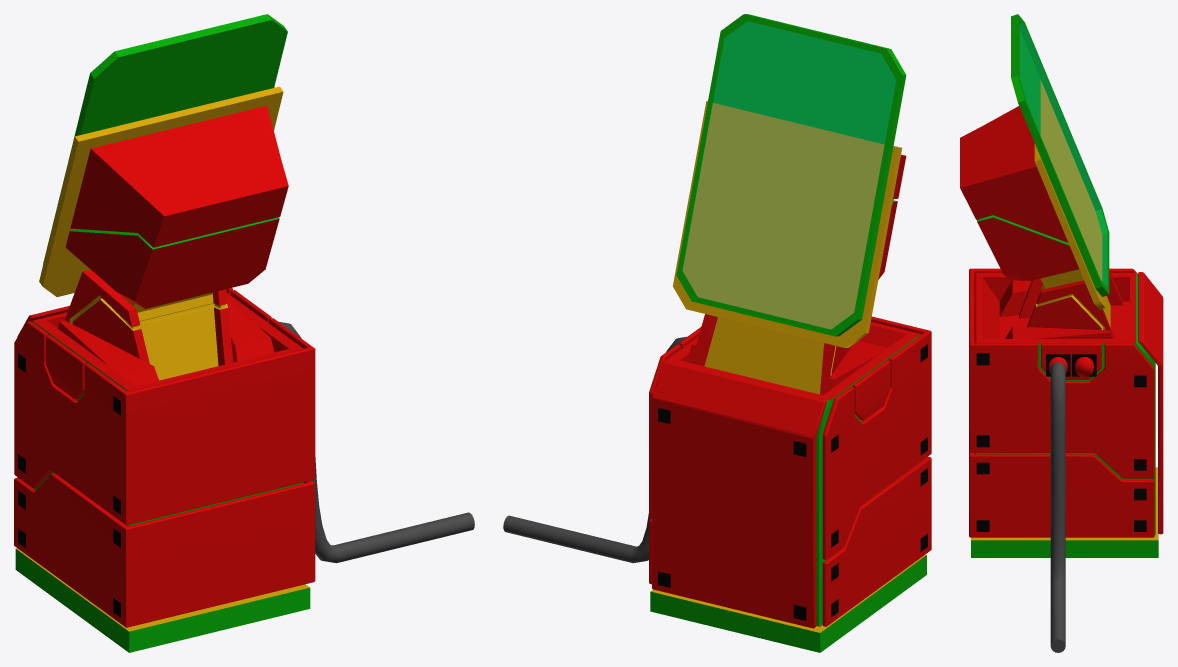
The model's file is SM0128_Lobby_ControlPanels_02.fbx.
3 renders of one model, left to right at view 1: azimuth 30°, elevation 25°; view 2: azimuth 150°, elevation 25°; view 3: azimuth 270°, elevation 25°, orthographic. The views are drawn at different scales.
Parts seen in each view (by area): view 1: SM0128_Lobby_ControlPanels_02, Cylinder.047; view 2: SM0128_Lobby_ControlPanels_02, Cylinder.047; view 3: SM0128_Lobby_ControlPanels_02, Cylinder.047.
Part boxes in pixels (x1,y1,x2,y2): SM0128_Lobby_ControlPanels_02: [14, 14, 315, 652]; Cylinder.047: [278, 321, 474, 563]; SM0128_Lobby_ControlPanels_02: [649, 14, 931, 652]; Cylinder.047: [503, 336, 686, 563]; SM0128_Lobby_ControlPanels_02: [960, 14, 1163, 557]; Cylinder.047: [1050, 362, 1065, 652].
Size of the model in its own units: 356 by 187 by 492.
